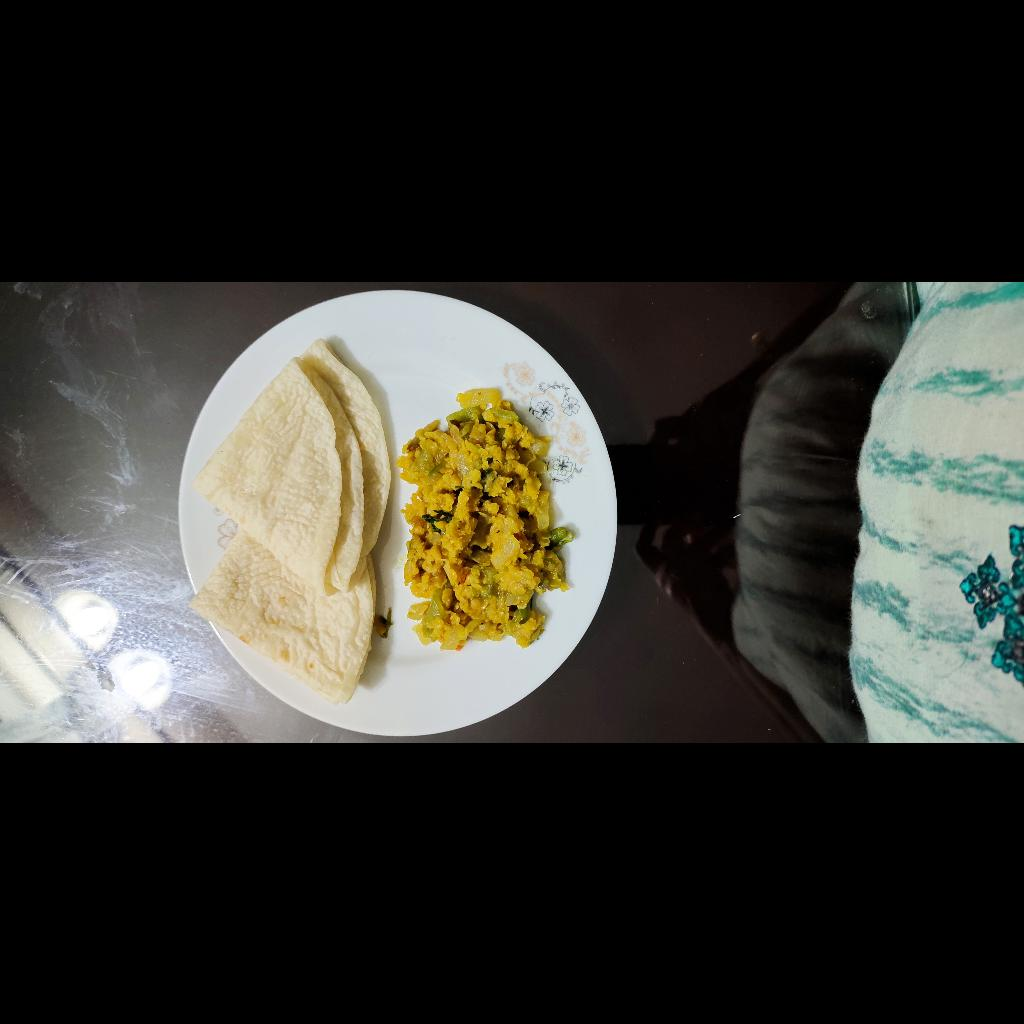fish: (91, 675, 357, 857)
ruti: (36, 463, 405, 675)
